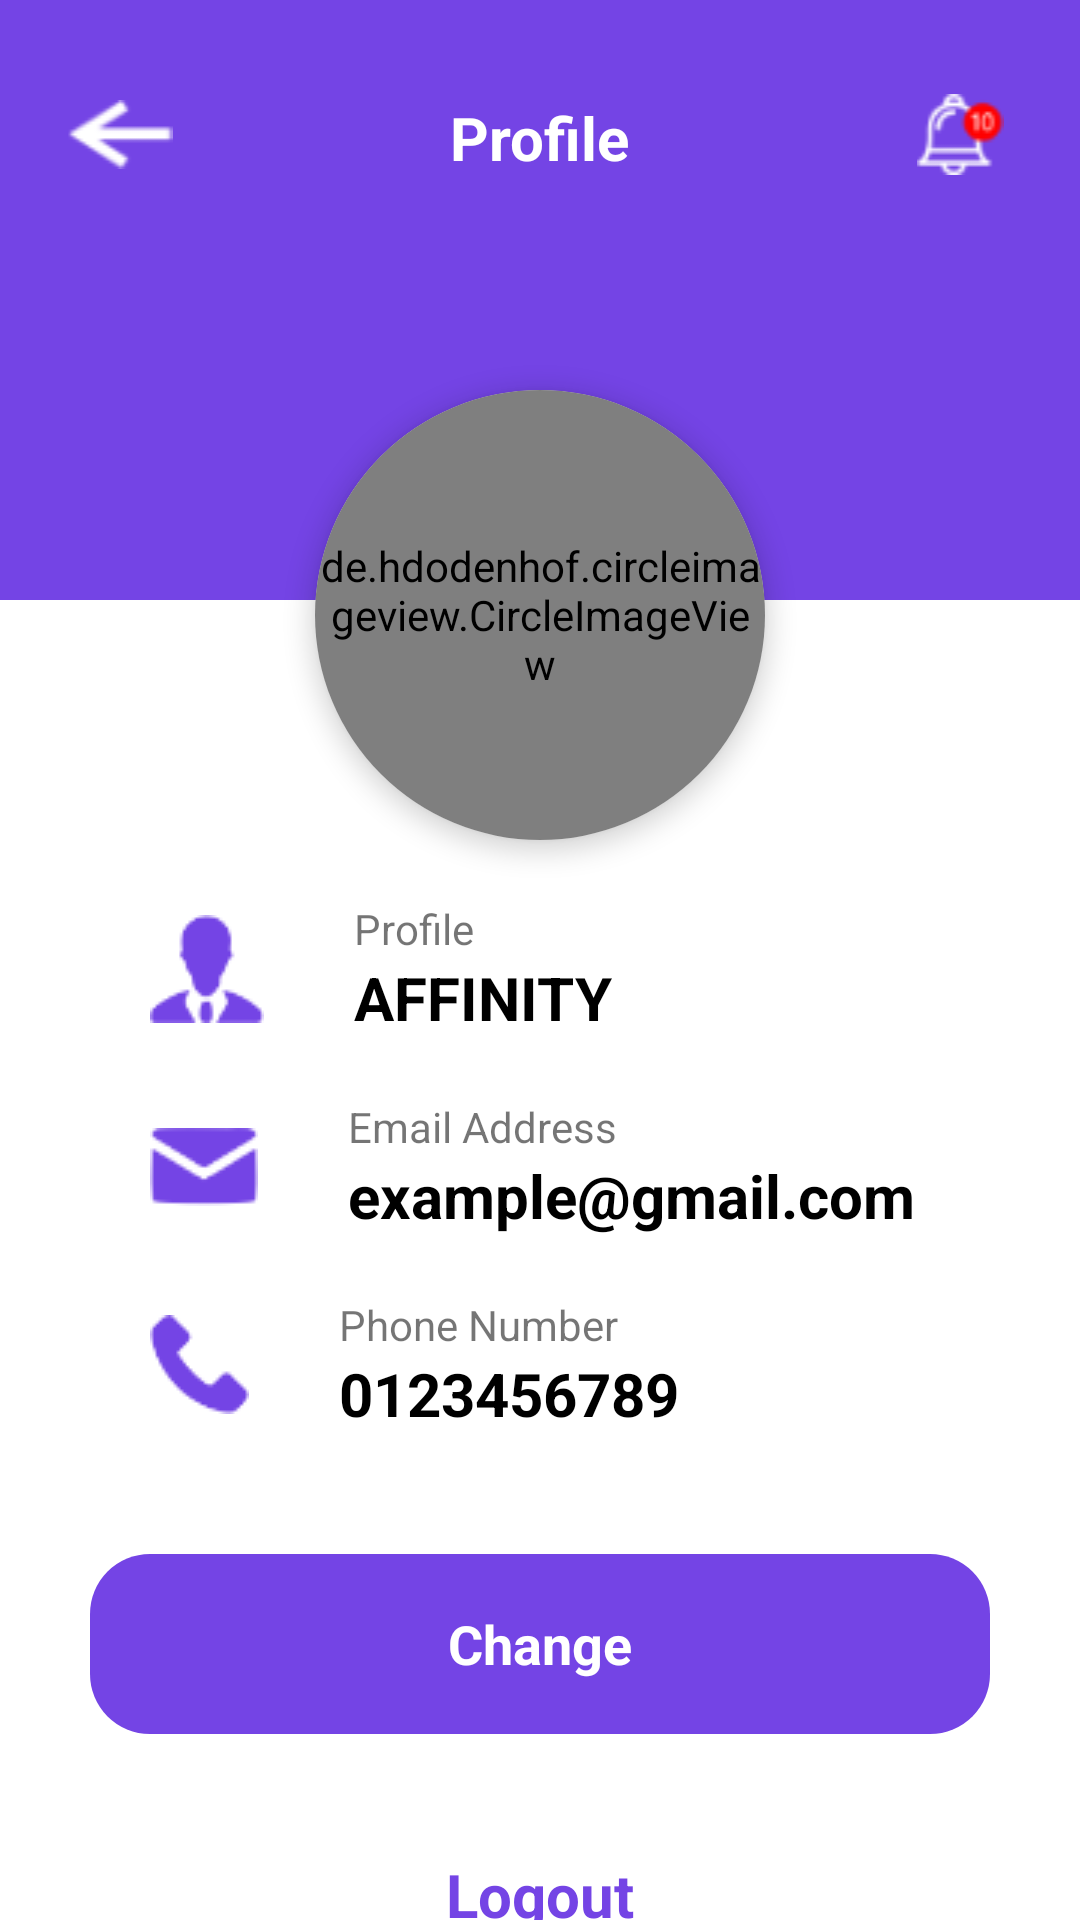

Icons on this 1080*1920 Android screen, each with its box as (x1, y1, x2, y2):
back: (69, 100, 173, 169)
bell: (917, 94, 1004, 175)
call: (150, 1315, 249, 1414)
user: (150, 915, 264, 1023)
